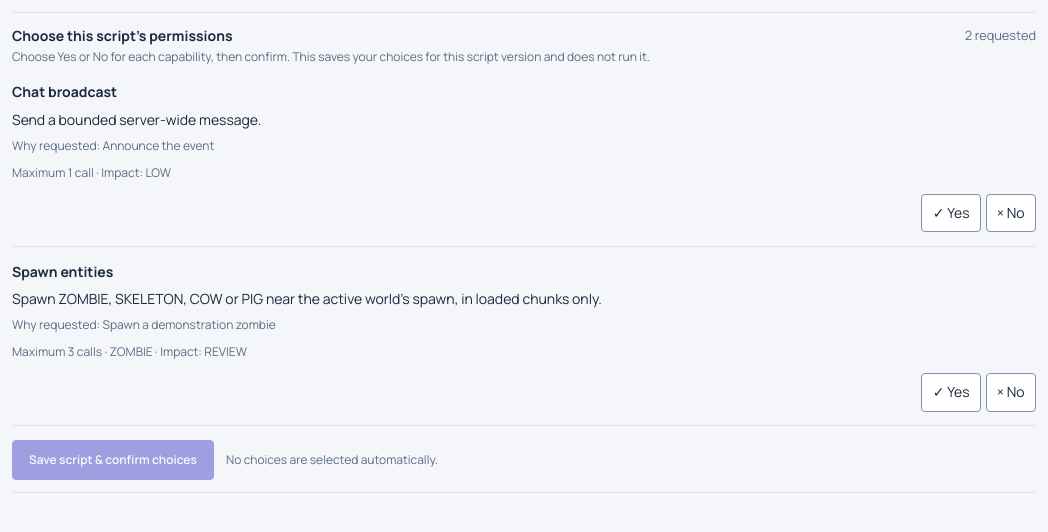
Test: refuses a saved manifest with different constraints
Click the button with aria-label "Yes, allow Chat broadcast" at (951, 213), box x1=921 y1=194 x2=981 y2=232
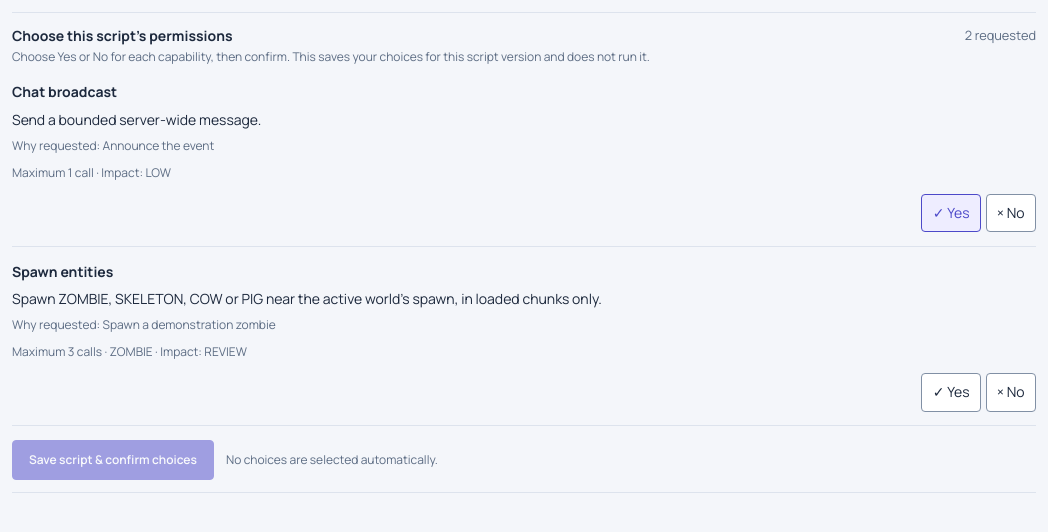
Click the button with aria-label "No, deny Spawn entities" at (1011, 392), box x1=986 y1=373 x2=1036 y2=412
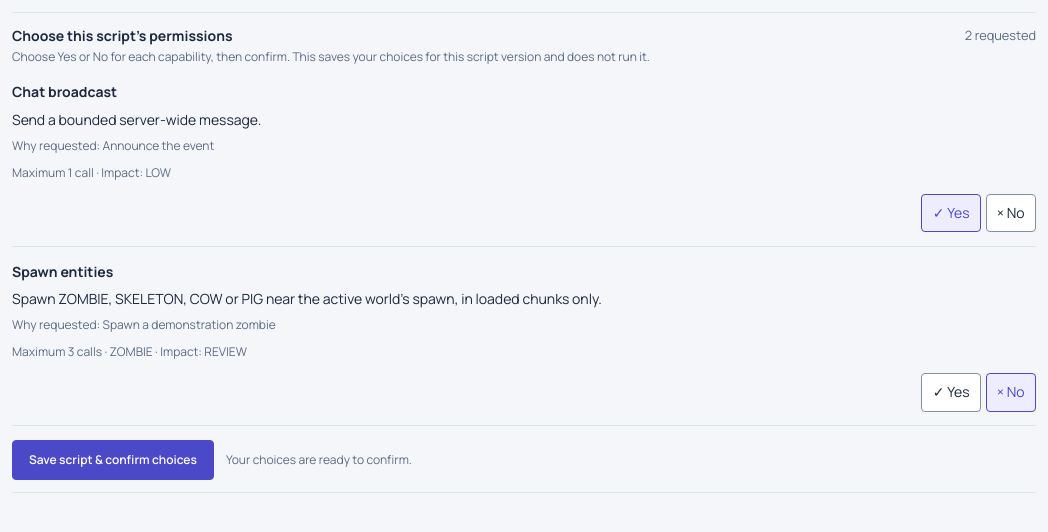
Click the button "Save script & confirm choices" at (113, 460), box x1=12 y1=440 x2=214 y2=480
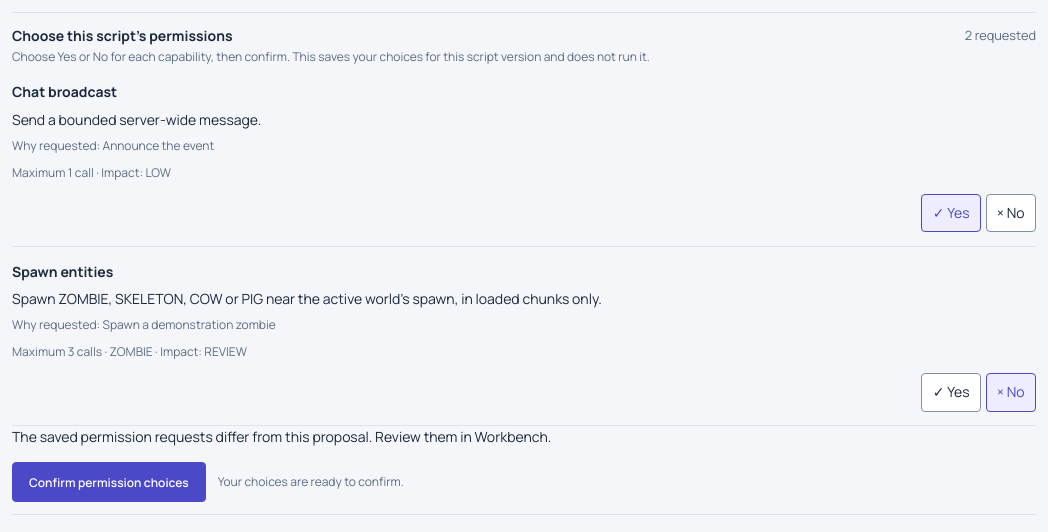
Expected: the 1st message shows "differ", x1=12 y1=427 x2=551 y2=446
